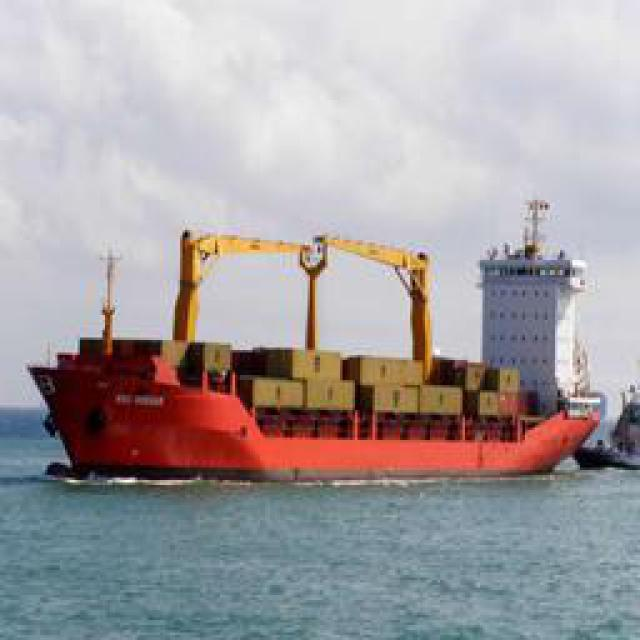Ship: (31, 344, 609, 487)
